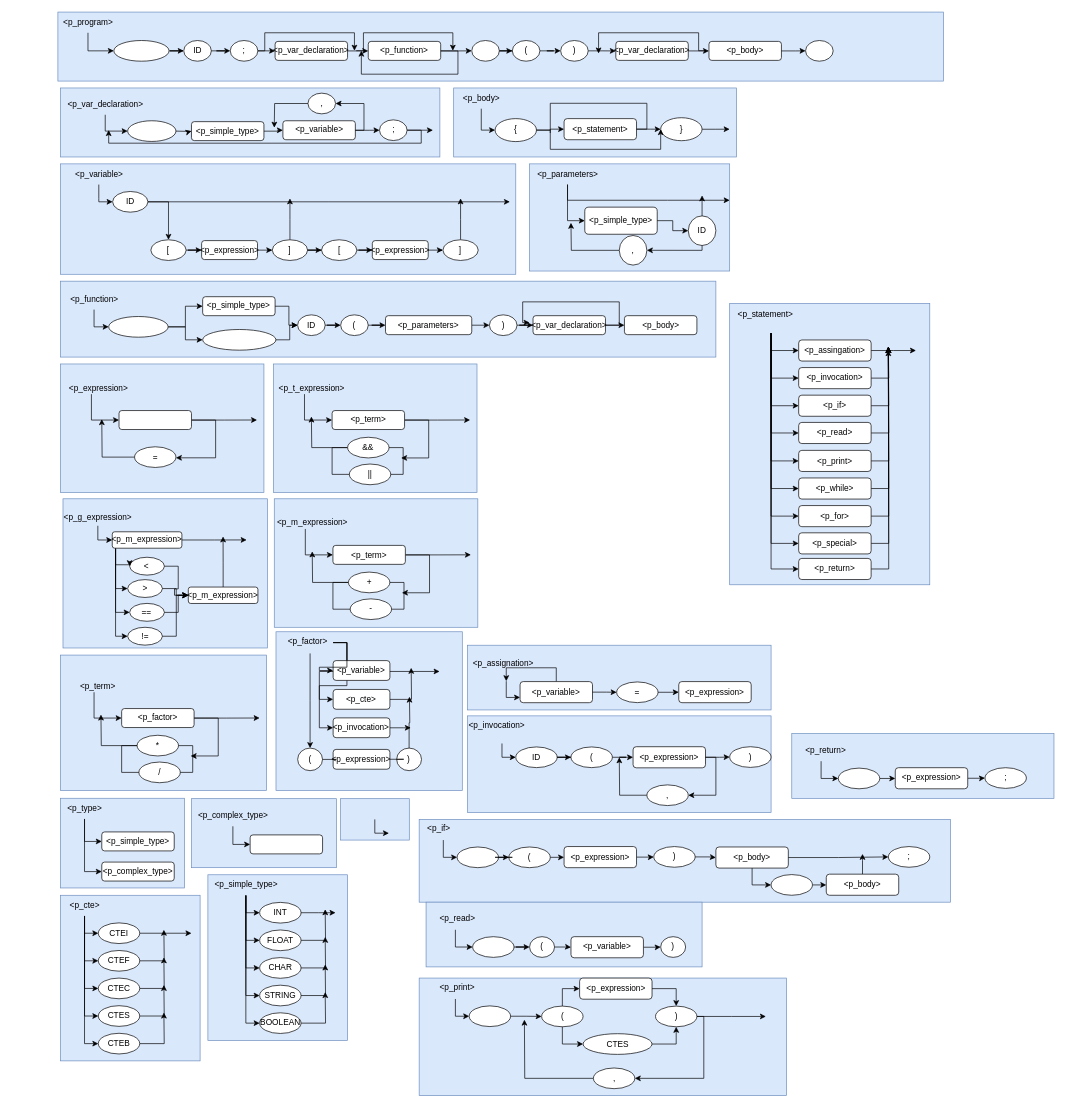
This 1066x1108 diagram has some shape labels left out. The centre of each missing label's shape, as x and y in pixels:
"<p_empty>" goes at pixel 374 819.
"<p_t_term>" goes at pixel 154 420.
"<p_vector>" goes at pixel 286 844.
"ELSE" goes at pixel 791 884.
"END" goes at pixel 819 50.
"FUNCTION" goes at pixel 138 326.
"if" goes at pixel 477 857.
"MAIN" goes at pixel 485 50.
"PRINT" goes at pixel 490 1016.
"PROGRAM" goes at pixel 141 50.
"READ" goes at pixel 493 946.
"RETURN" goes at pixel 859 778.
"VARIABLE" goes at pixel 151 130.
"VOID" goes at pixel 239 339.
